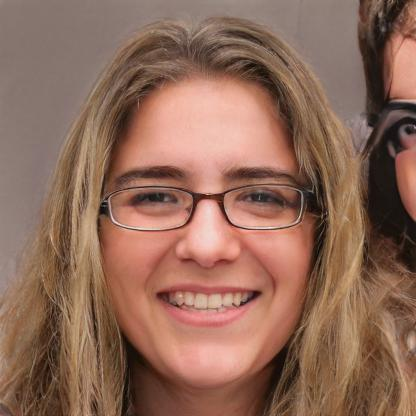glasses: (106, 176, 308, 234)
